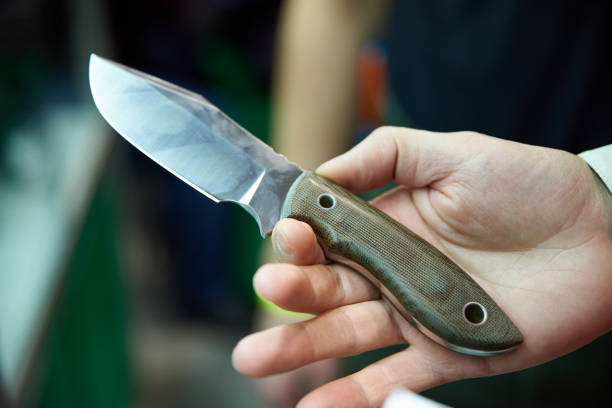knife: (85, 49, 526, 362)
